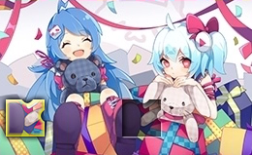gap: (122, 99, 161, 135)
